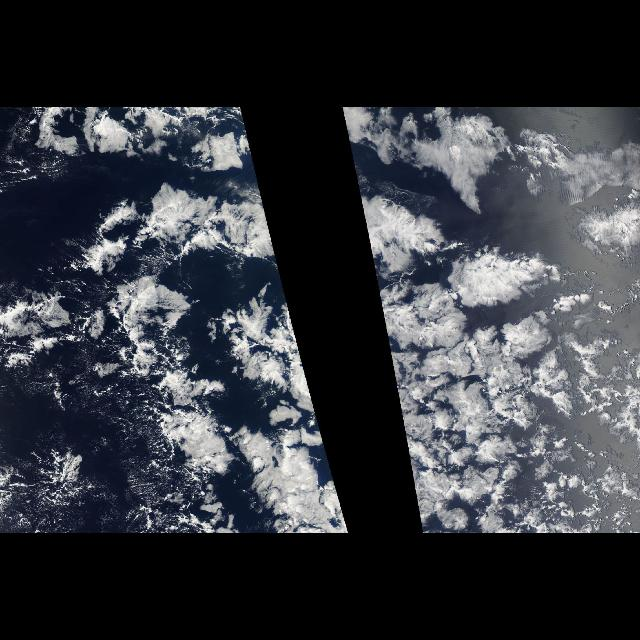Flower: (389, 319, 569, 521)
